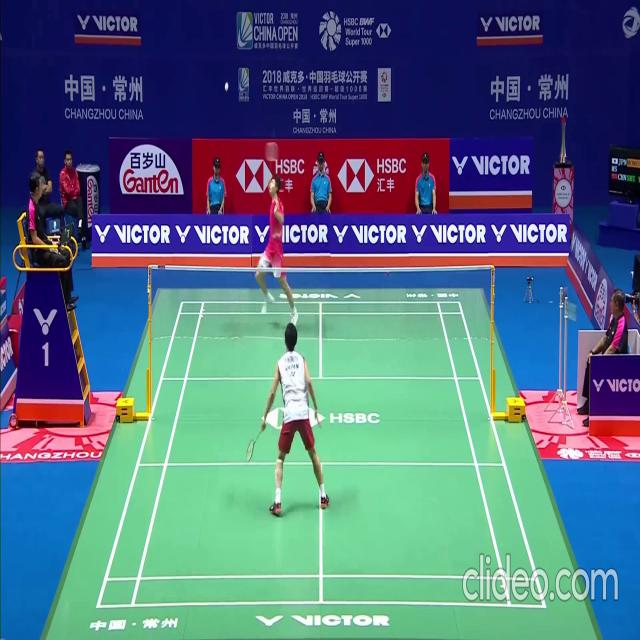Shuttlecock: (224, 83, 229, 90)
